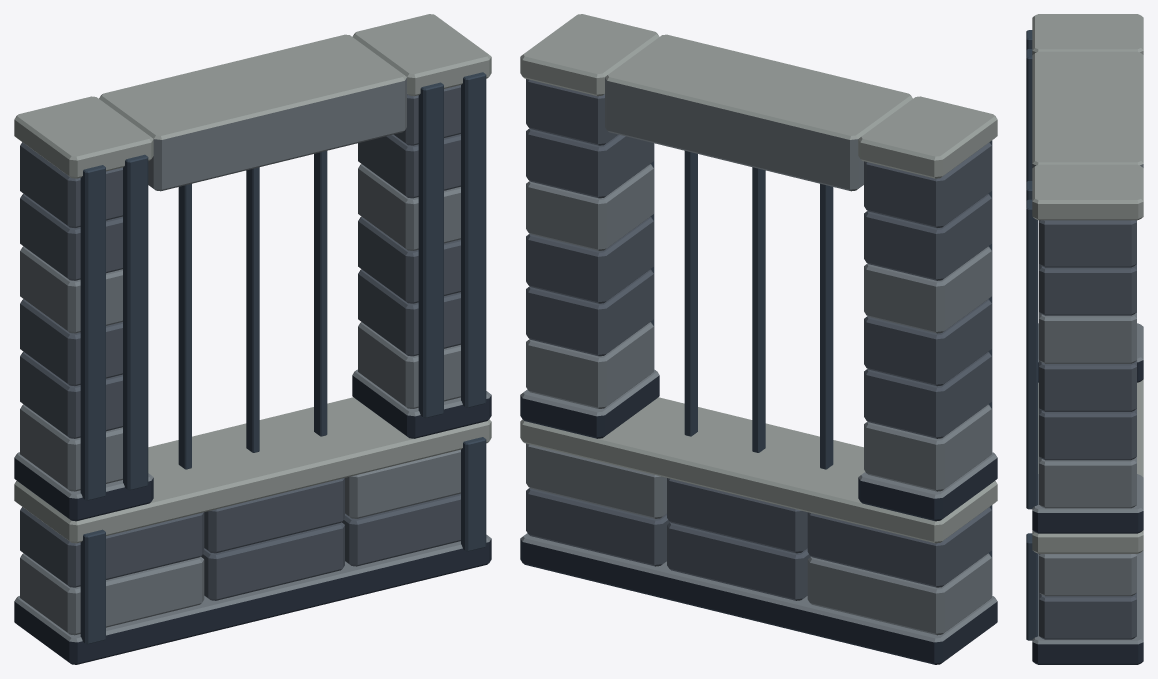
File: wall-window.glb
The picture shows the model from 3 angles, left to right: view 1: azimuth 30°, elevation 25°; view 2: azimuth 150°, elevation 25°; view 3: azimuth 270°, elevation 25°; orthographic projection. The views are drawn at different scales.
Parts seen in each view (by area): view 1: wall-window__body; view 2: wall-window__body; view 3: wall-window__body.
Boxes of the visible parts, <box> form: wall-window__body: <box>14,14,491,664</box>; wall-window__body: <box>520,14,997,664</box>; wall-window__body: <box>1026,14,1143,664</box>.
Size of the model in its own units: 2 by 2.3 by 0.5275.
